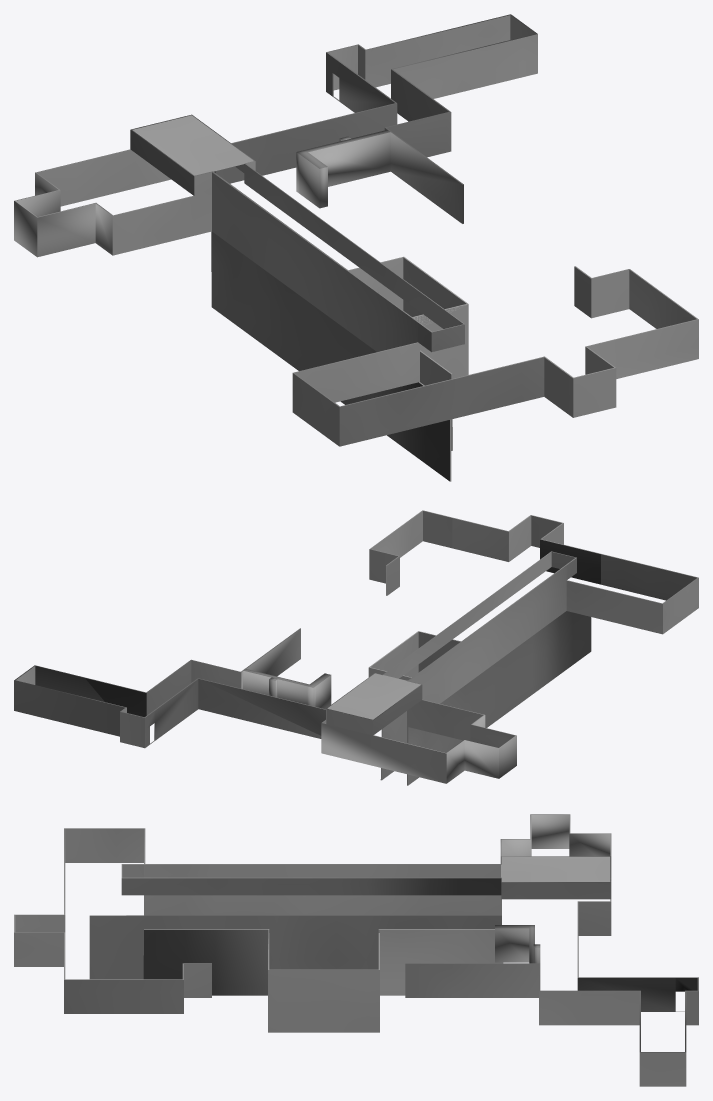
Rendered from SeinaRunko_V.1.1.1.fbx.
The picture shows the model from 3 angles, top to bottom: view 1: azimuth 30°, elevation 25°; view 2: azimuth 150°, elevation 25°; view 3: azimuth 270°, elevation 25°; orthographic projection. The views are drawn at different scales.
Visible parts, largest first — view 1: Seinä_Runko.001; view 2: Seinä_Runko.001; view 3: Seinä_Runko.001.
Part boxes in pixels (x1,y1,x2,y2): Seinä_Runko.001: (14,14,698,481); Seinä_Runko.001: (14,510,698,785); Seinä_Runko.001: (14,814,698,1086).
Bounding box in the file's own units: 4479 × 1030 × 5448.
